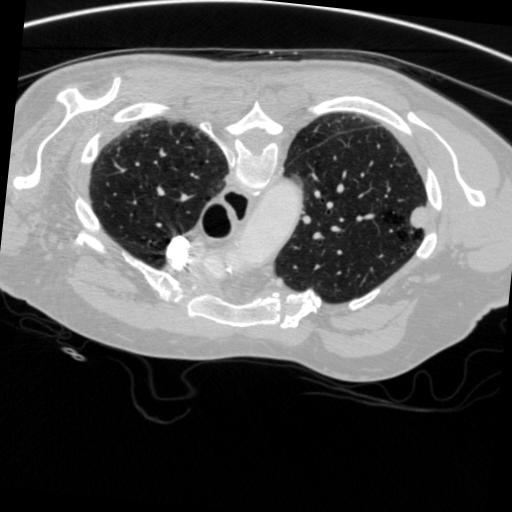nodule: (405, 206, 432, 233)
